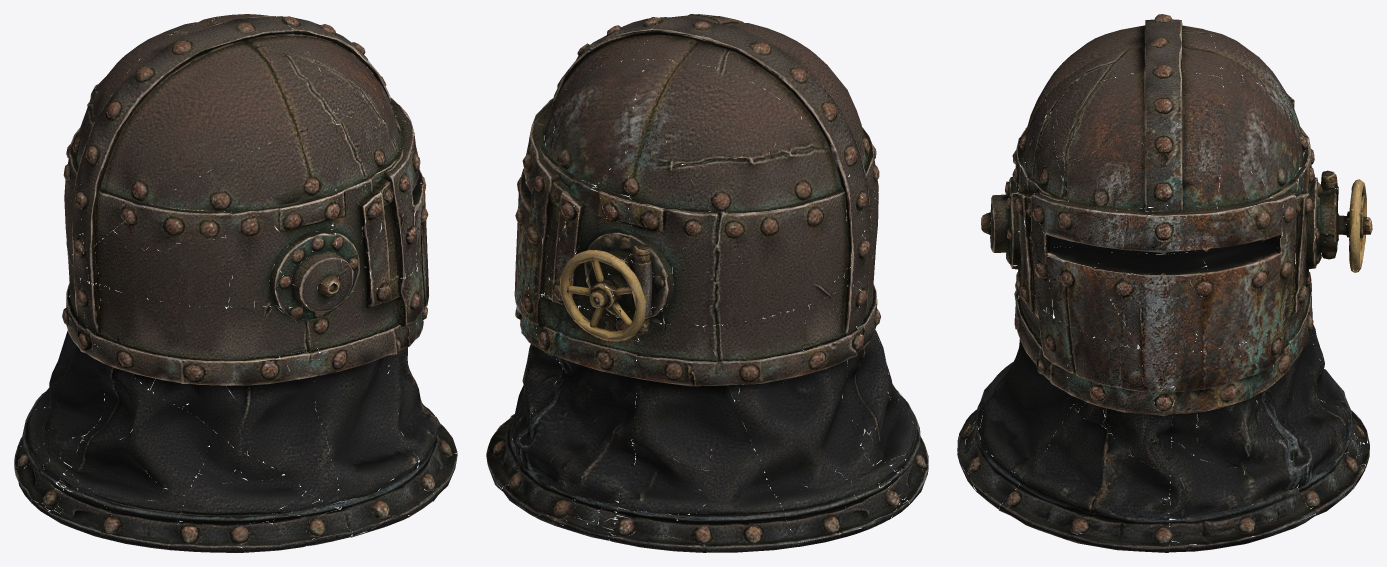
Rendered from a_sluice_helm.glb.
The picture shows the model from 3 angles, left to right: view 1: azimuth 30°, elevation 25°; view 2: azimuth 150°, elevation 25°; view 3: azimuth 270°, elevation 25°; orthographic projection. The views are drawn at different scales.
Visible parts, largest first — view 1: tripo_node_242d5b3c-4b20-494e-9c07-7c95722780ba; view 2: tripo_node_242d5b3c-4b20-494e-9c07-7c95722780ba; view 3: tripo_node_242d5b3c-4b20-494e-9c07-7c95722780ba.
Part boxes in pixels (x1,y1,x2,y2): tripo_node_242d5b3c-4b20-494e-9c07-7c95722780ba: (14,14,457,552); tripo_node_242d5b3c-4b20-494e-9c07-7c95722780ba: (486,14,928,552); tripo_node_242d5b3c-4b20-494e-9c07-7c95722780ba: (957,14,1372,552).
Bounding box in the file's own units: 0.8986 × 0.9785 × 0.8611.
1 material, 1 textured.
